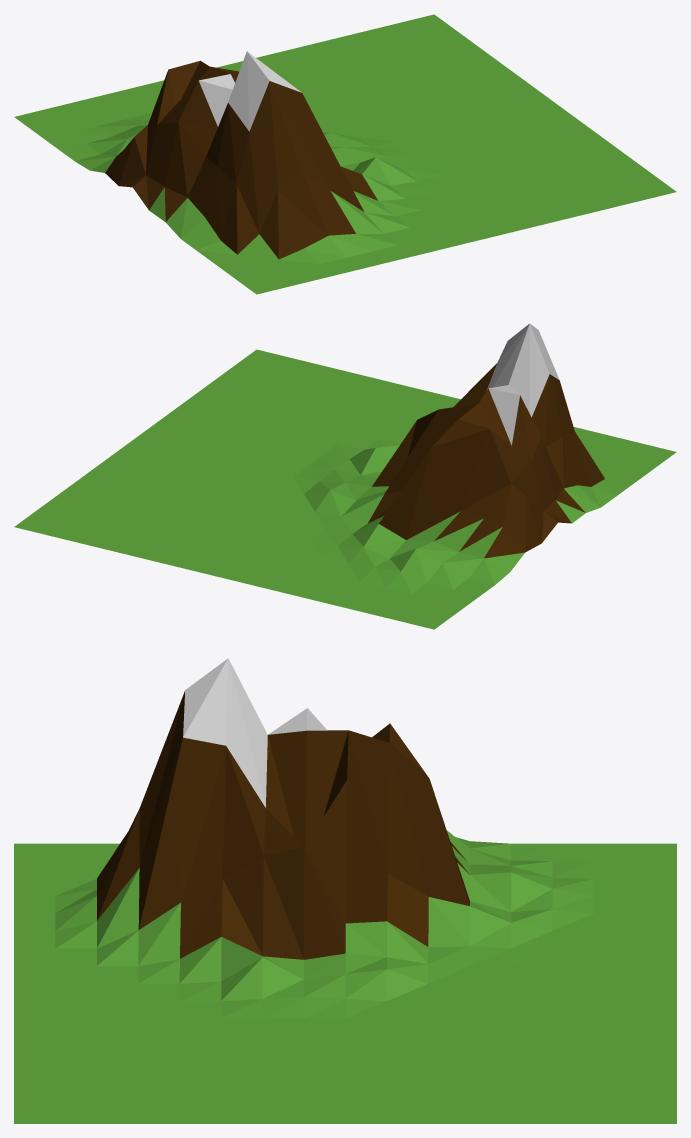
Rendered from montanha.fbx.
The picture shows the model from 3 angles, top to bottom: view 1: azimuth 30°, elevation 25°; view 2: azimuth 150°, elevation 25°; view 3: azimuth 270°, elevation 25°; orthographic projection. The views are drawn at different scales.
Visible parts, largest first — view 1: Plane; view 2: Plane; view 3: Plane.
Boxes of the visible parts, left/top/right/bottom form: Plane: left=14, top=14, right=676, bottom=294; Plane: left=14, top=323, right=676, bottom=629; Plane: left=14, top=658, right=676, bottom=1123.
Size of the model in its own units: 14.11 by 5.4 by 14.02.
